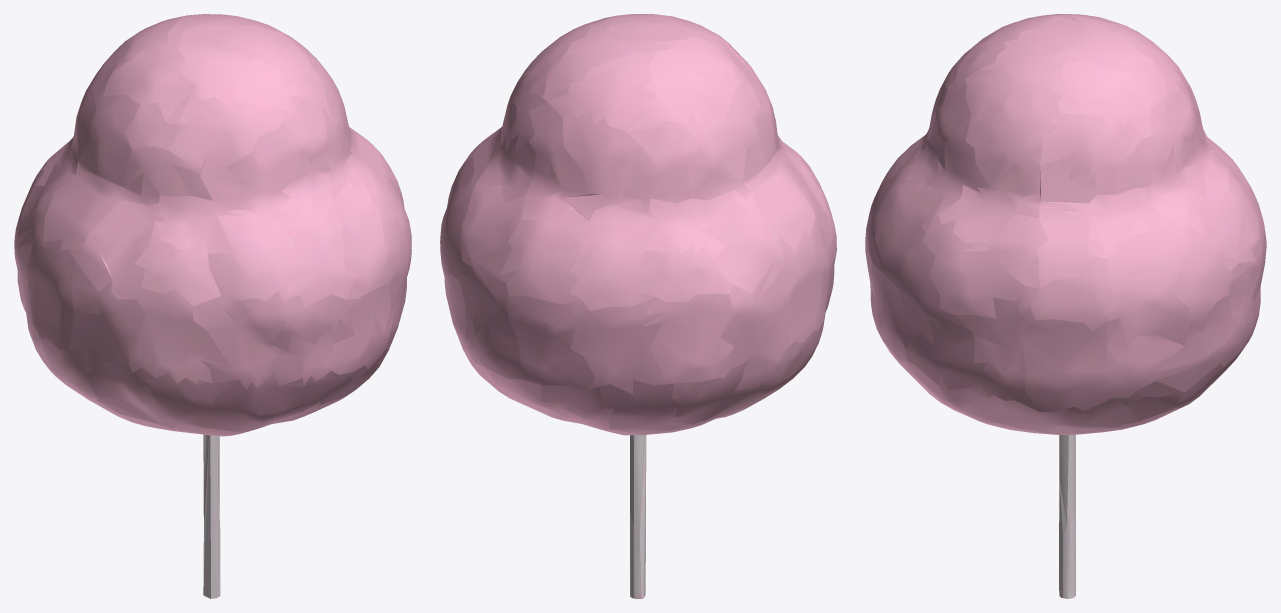
Rendered from cotton_candy.glb.
The picture shows the model from 3 angles, left to right: view 1: azimuth 30°, elevation 25°; view 2: azimuth 150°, elevation 25°; view 3: azimuth 270°, elevation 25°; orthographic projection.
Visible parts, largest first — view 1: Mesh_0; view 2: Mesh_0; view 3: Mesh_0.
Part boxes in pixels (left/top/right/bottom): Mesh_0: left=14, top=14, right=411, bottom=598; Mesh_0: left=440, top=14, right=836, bottom=598; Mesh_0: left=865, top=14, right=1266, bottom=598.
Bounding box in the file's own units: 0.2214 × 0.35 × 0.2262.
Materials: 1 (1 with a texture image).
